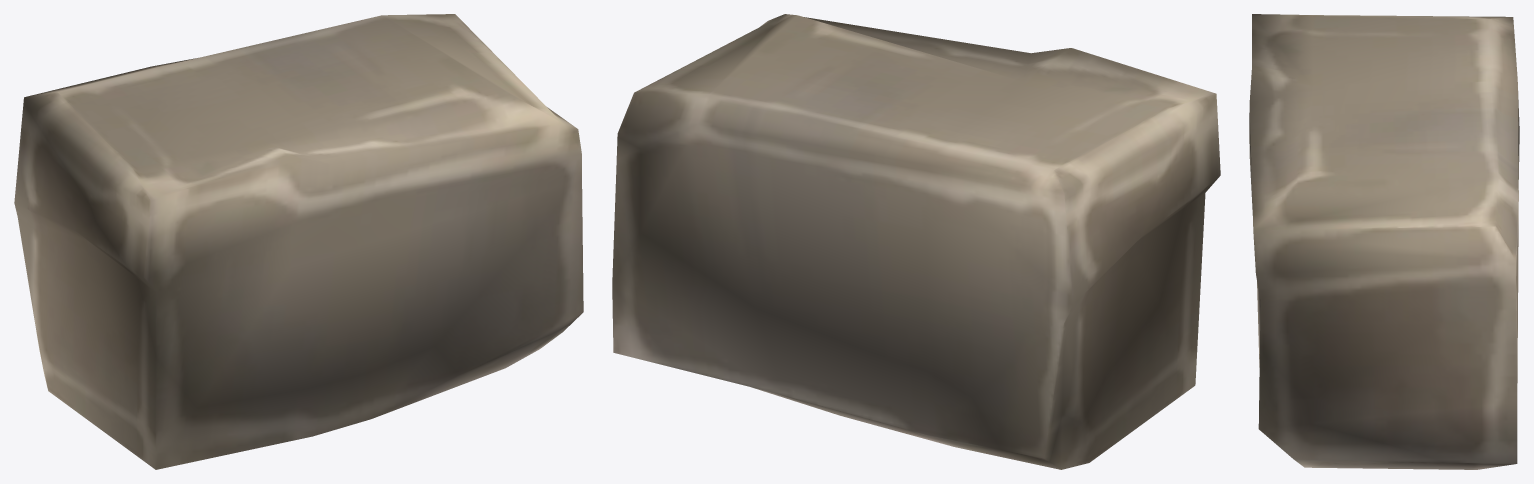
Rendered from Prop_Brick2.gltf.
3 renders of one model, left to right at view 1: azimuth 30°, elevation 25°; view 2: azimuth 150°, elevation 25°; view 3: azimuth 270°, elevation 25°, orthographic. The views are drawn at different scales.
Visible parts, largest first — view 1: Prop_Brick2; view 2: Prop_Brick2; view 3: Prop_Brick2.
Part boxes in pixels (x1,y1,x2,y2): Prop_Brick2: (14,14,583,469); Prop_Brick2: (612,14,1220,469); Prop_Brick2: (1249,14,1519,469).
Size of the model in its own units: 0.3954 by 0.2449 by 0.2169.
Materials: 1 (1 with a texture image).
